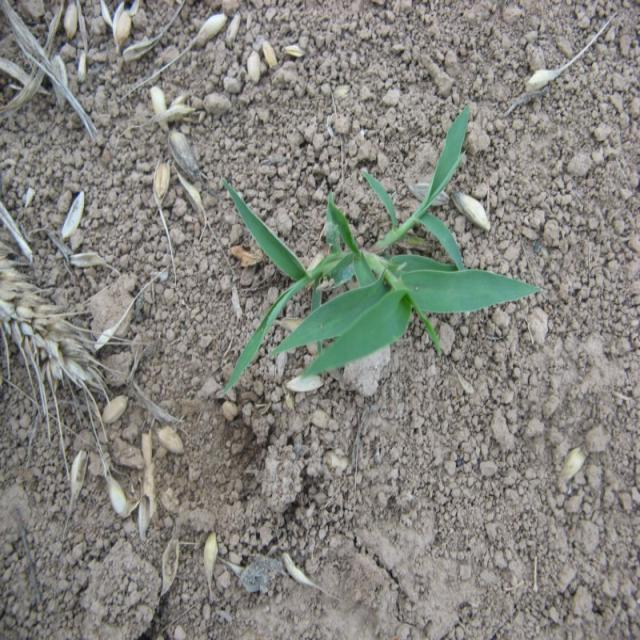bg: (222, 107, 541, 387)
